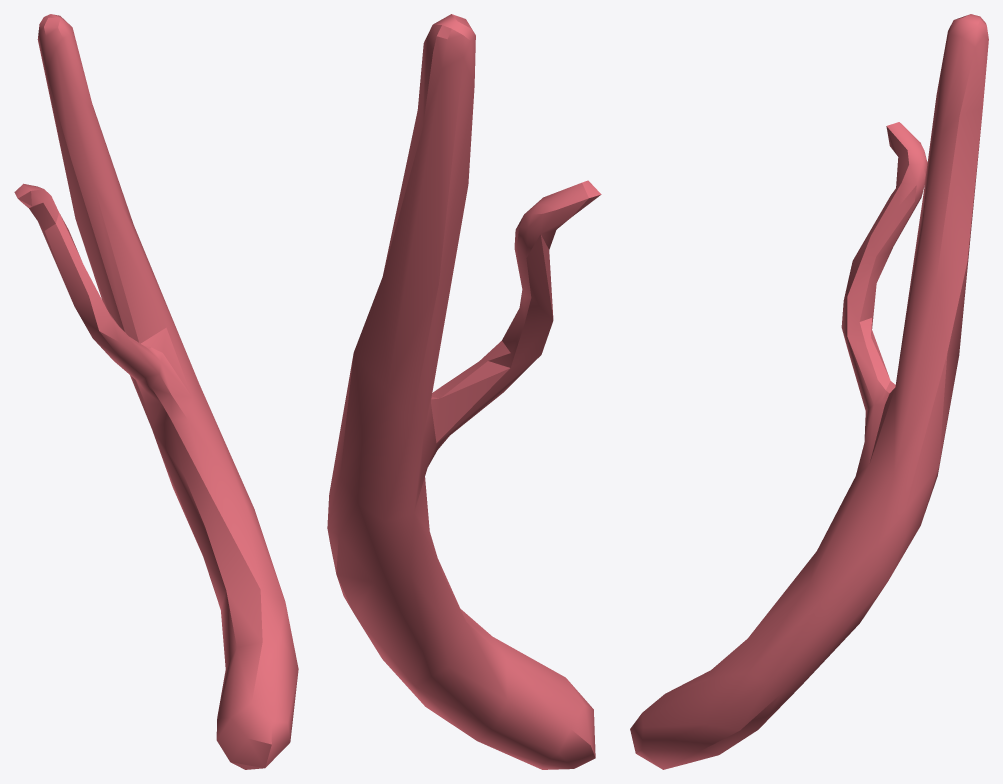
The model's file is fma3847_fj2735.glb.
3 views of the same model, side by side, from view 1: azimuth 30°, elevation 25°; view 2: azimuth 150°, elevation 25°; view 3: azimuth 270°, elevation 25° (orthographic). The views are drawn at different scales.
Visible parts, largest first — view 1: FMA3847_FJ2735; view 2: FMA3847_FJ2735; view 3: FMA3847_FJ2735.
Part boxes in pixels (x1=…): FMA3847_FJ2735: x1=14, y1=14, x2=298, y2=769; FMA3847_FJ2735: x1=327, y1=14, x2=601, y2=769; FMA3847_FJ2735: x1=630, y1=14, x2=988, y2=769.
Size of the model in its own units: 0.00562 by 0.0169 by 0.00766.
